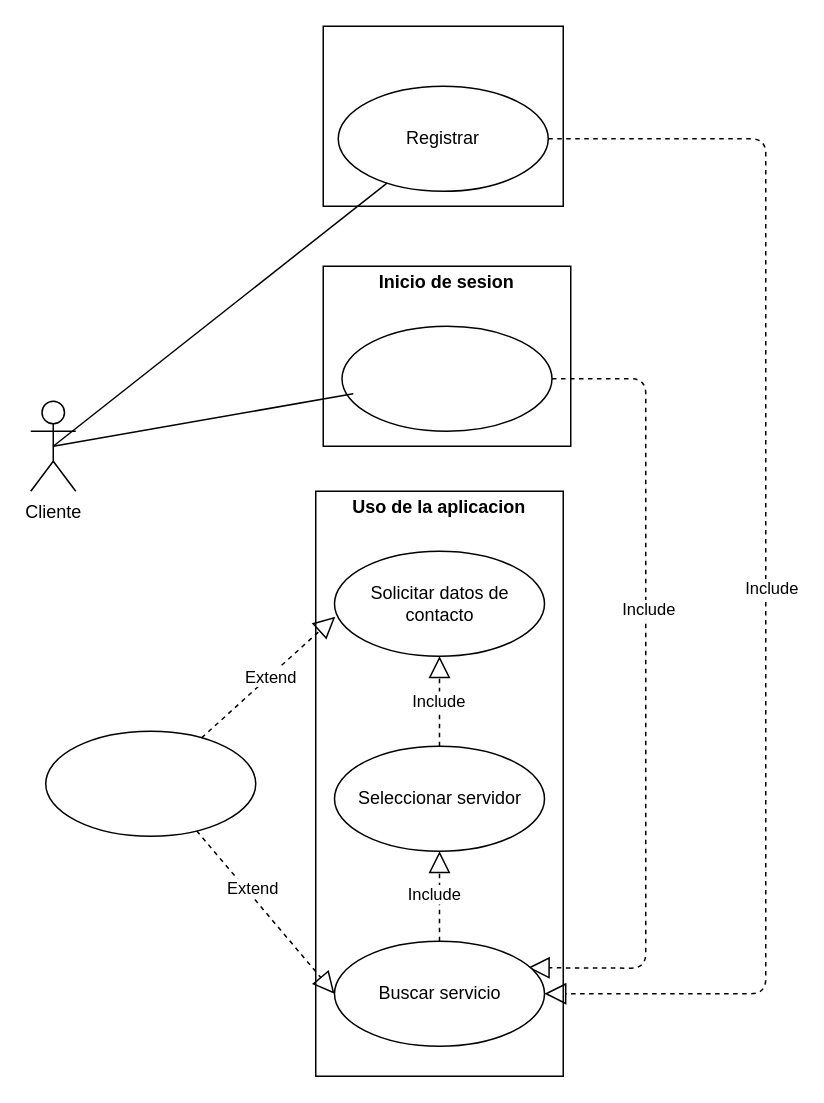
Some shapes in this 824 by 1103 pixel diagram are drawn without their labels. The box of each missing label's shape, as (x1, y1, x2, y2) in pixels:
Compar membresia: (44, 730, 256, 836)
Iniciar Sesion: (340, 325, 552, 431)
Registro: (322, 25, 563, 206)
